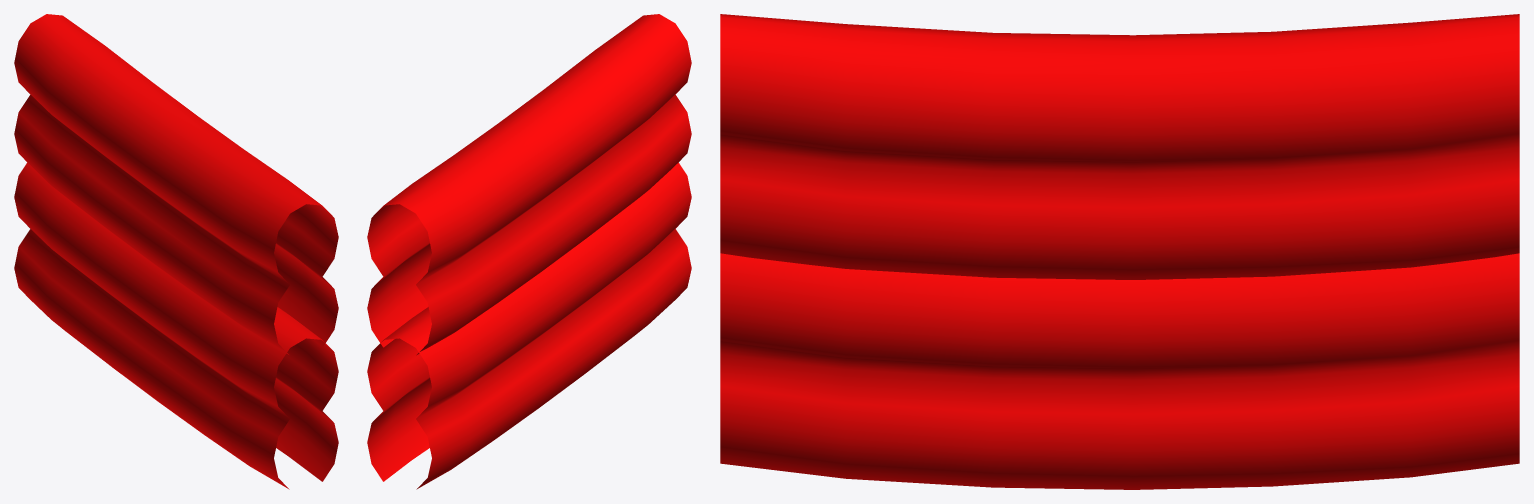
File: SM_CastleWall.FBX
The picture shows the model from 3 angles, left to right: view 1: azimuth 30°, elevation 25°; view 2: azimuth 150°, elevation 25°; view 3: azimuth 270°, elevation 25°; orthographic projection. The views are drawn at different scales.
Visible parts, largest first — view 1: Wall2_low; view 2: Wall2_low; view 3: Wall2_low.
Part boxes in pixels (x1=…): Wall2_low: x1=14, y1=14, x2=338, y2=489; Wall2_low: x1=367, y1=14, x2=691, y2=489; Wall2_low: x1=720, y1=14, x2=1519, y2=489.
Bounding box in the file's own units: 80.77 × 276 × 442.
